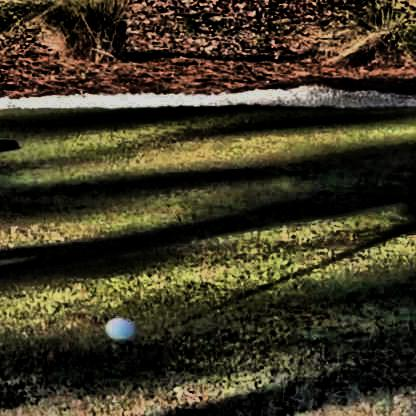golfball: (98, 315, 130, 340)
